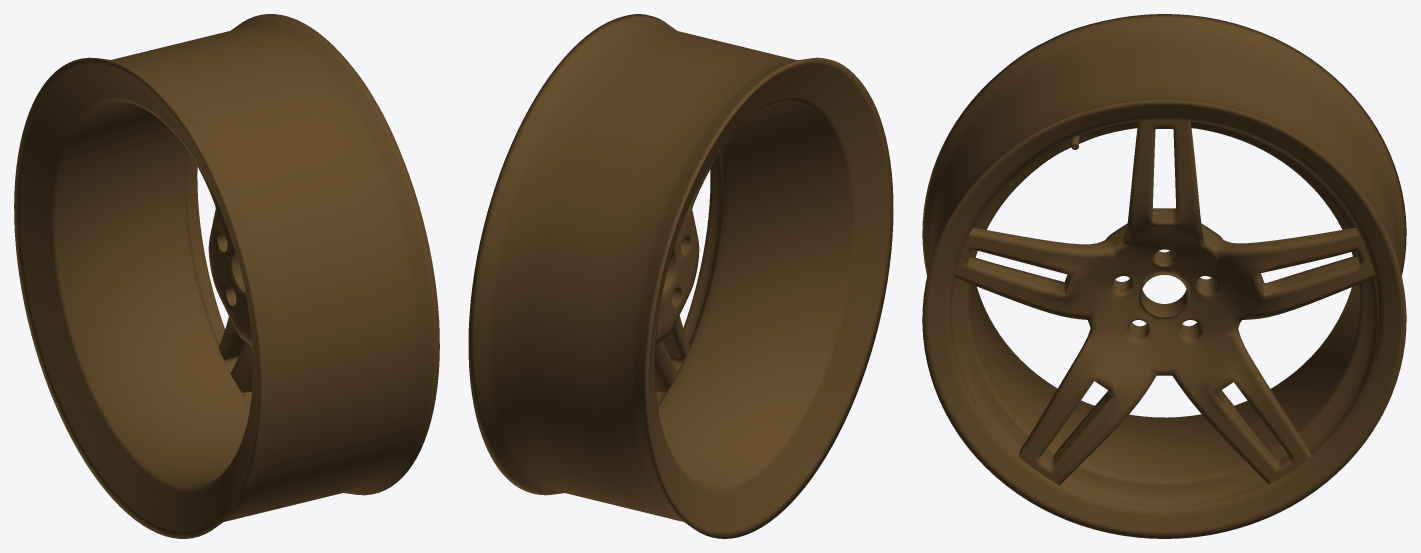
File: wheel8.glb
The picture shows the model from 3 angles, left to right: view 1: azimuth 30°, elevation 25°; view 2: azimuth 150°, elevation 25°; view 3: azimuth 270°, elevation 25°; orthographic projection.
Parts seen in each view (by area): view 1: tire.001; view 2: tire.001; view 3: tire.001.
Part boxes in pixels (x1,y1,x2,y2): tire.001: [14, 14, 439, 538]; tire.001: [468, 14, 893, 538]; tire.001: [922, 14, 1406, 538].
Size of the model in its own units: 0.4797 by 1.14 by 1.14.
